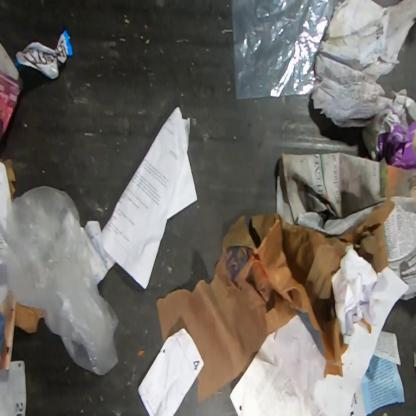cardboard: (362, 87, 415, 171), (0, 294, 44, 370)
soft_plastic: (0, 160, 120, 377), (232, 0, 338, 100), (15, 30, 73, 80)
